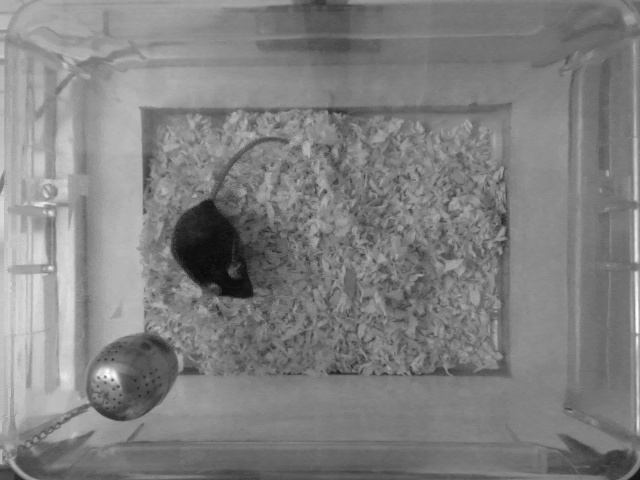mice: (167, 133, 292, 303)
